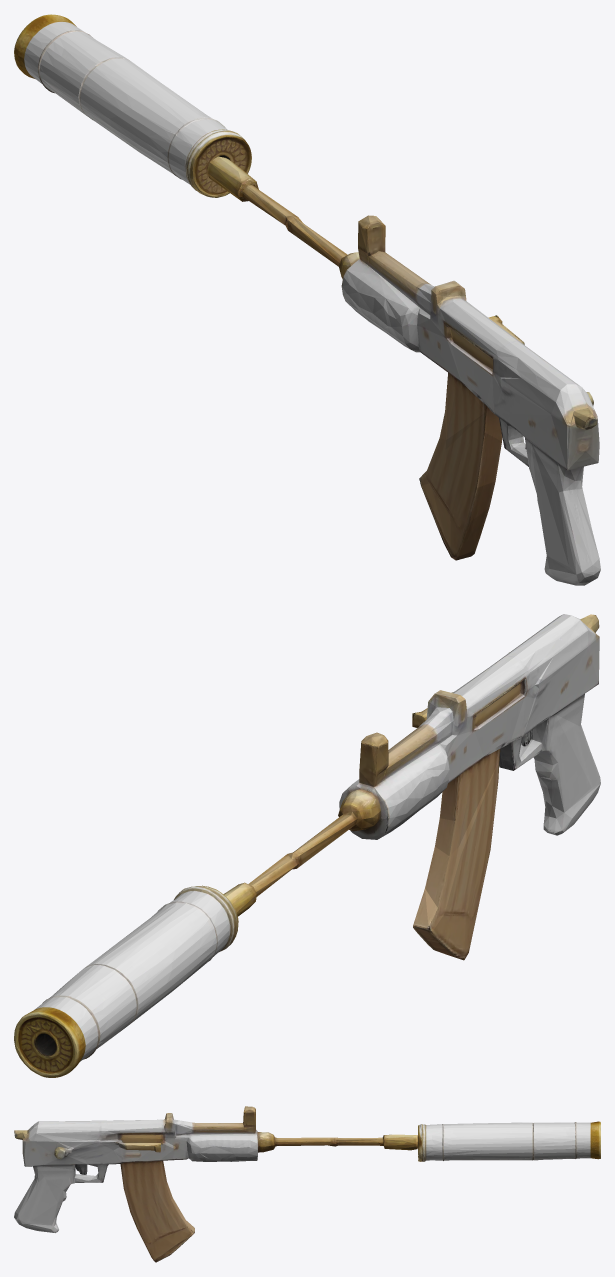
The model's file is white_mac_suppressed.glb.
The picture shows the model from 3 angles, top to bottom: view 1: azimuth 30°, elevation 25°; view 2: azimuth 150°, elevation 25°; view 3: azimuth 270°, elevation 25°; orthographic projection. The views are drawn at different scales.
Parts seen in each view (by area): view 1: white_mac_suppressed; view 2: white_mac_suppressed; view 3: white_mac_suppressed.
Part boxes in pixels (bbox=[...]): white_mac_suppressed: bbox=[14, 14, 600, 585]; white_mac_suppressed: bbox=[14, 614, 600, 1077]; white_mac_suppressed: bbox=[14, 1106, 600, 1262].
Bounding box in the file's own units: 0.0561 × 0.1867 × 0.6522.
Materials: 2 (2 with a texture image).
